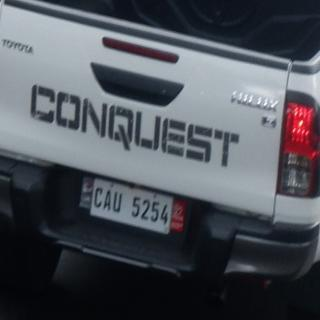license: (91, 179, 174, 236)
